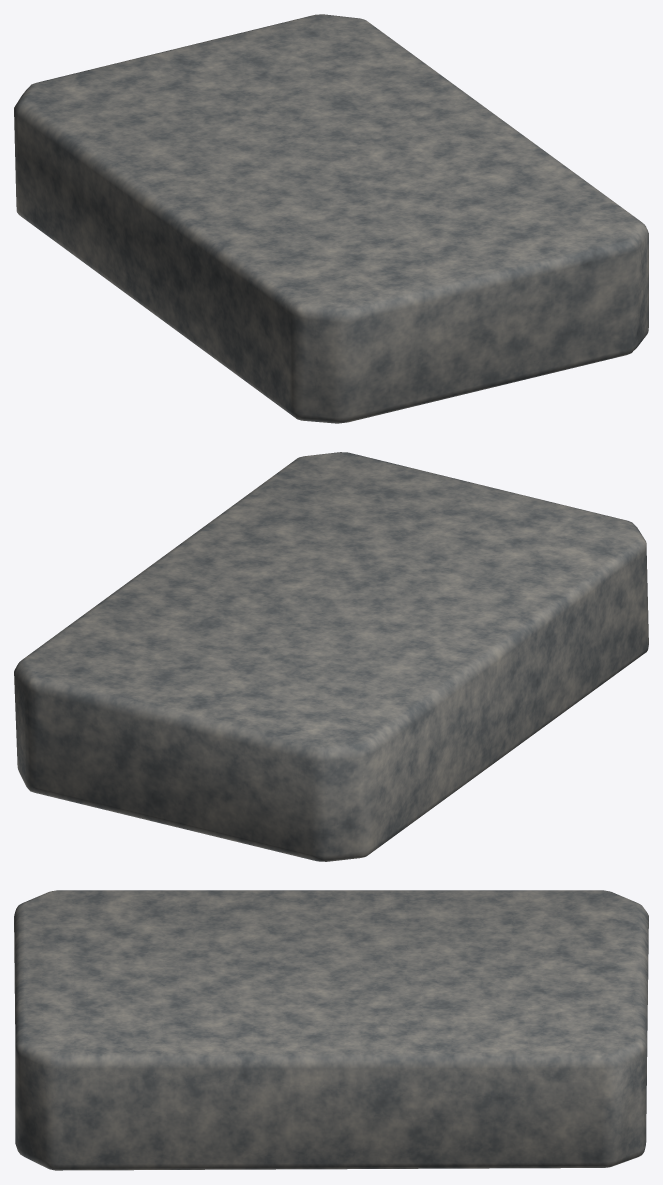
File: sinking_basalt_short_pbr.gltf
The picture shows the model from 3 angles, top to bottom: view 1: azimuth 30°, elevation 25°; view 2: azimuth 150°, elevation 25°; view 3: azimuth 270°, elevation 25°; orthographic projection.
Parts seen in each view (by area): view 1: sinking_basalt_short; view 2: sinking_basalt_short; view 3: sinking_basalt_short.
Boxes of the visible parts, left/top/right/bottom form: sinking_basalt_short: left=14, top=14, right=648, bottom=423; sinking_basalt_short: left=14, top=452, right=648, bottom=861; sinking_basalt_short: left=14, top=890, right=648, bottom=1170.
Size of the model in its own units: 4.54 by 1.4 by 7.03.
Materials: 1 (1 with a texture image).
